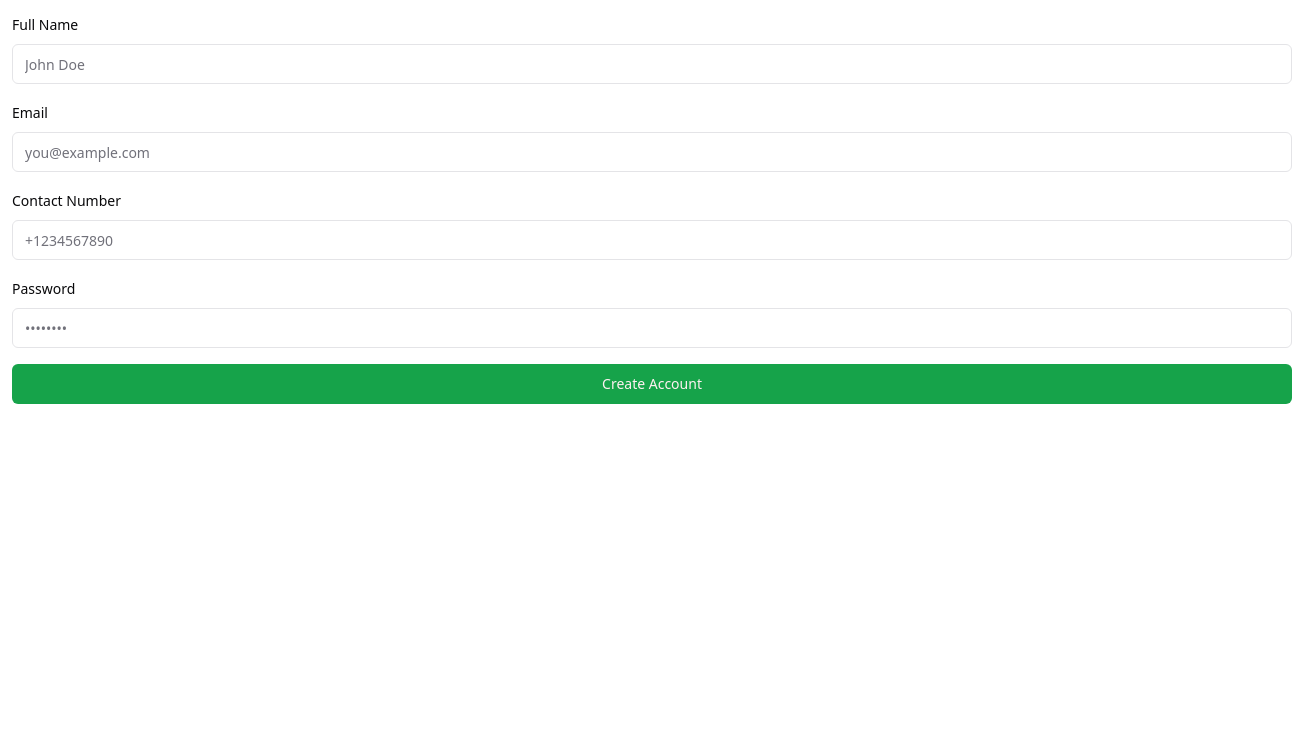
Scenario: RegisterForm › should validate contact number format
The width and height of the screenshot is (1304, 732).
Type "invalid" into the field with placeholder "+1234567890".
click(652, 240); type("invalid")  # box [12,220,1292,260]
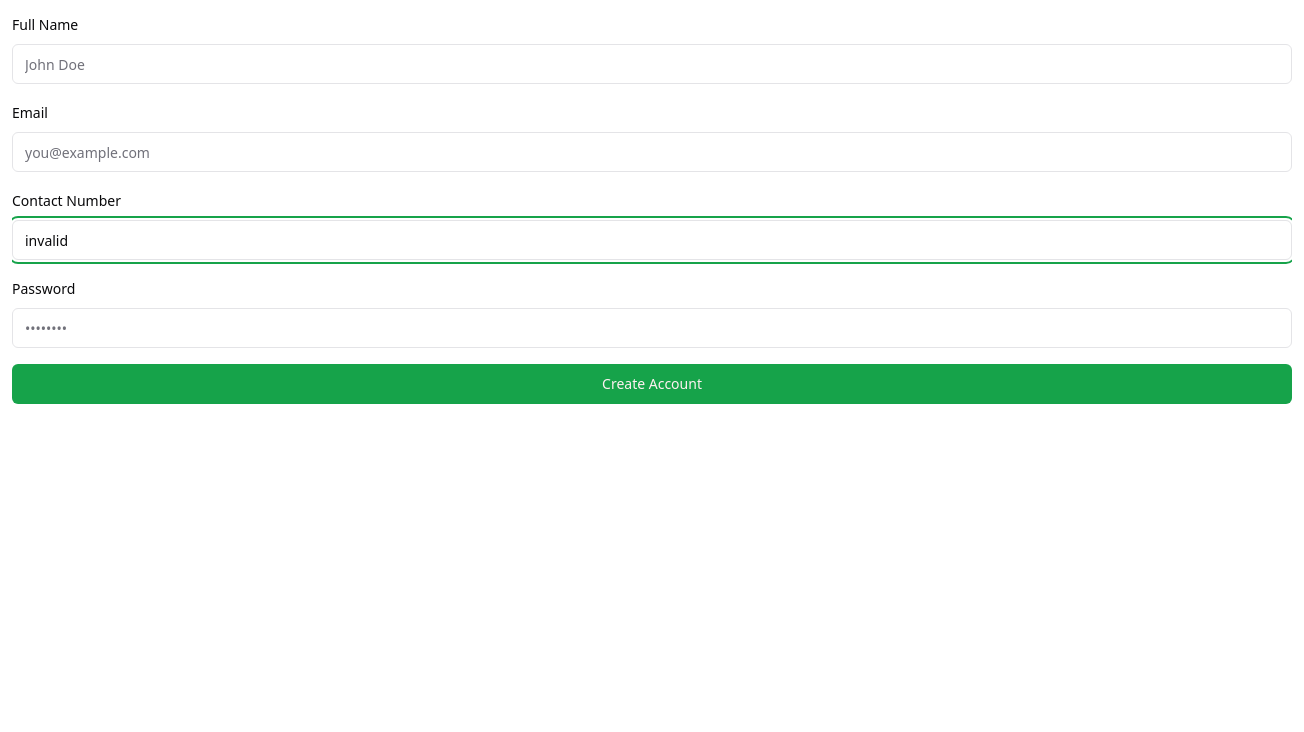
Click the button "Create Account".
click(652, 384)  # box [12,364,1292,404]
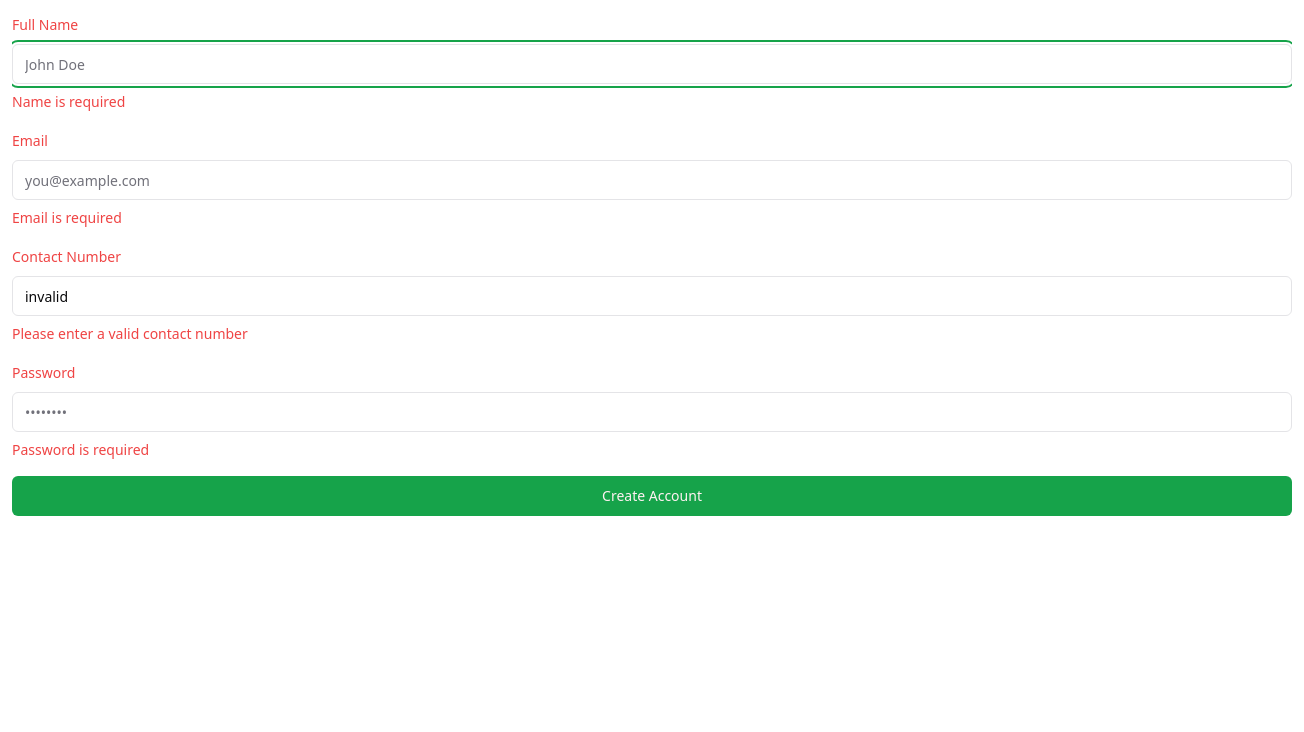
Expected: the text "Please enter a valid contact number" is shown, [12,324,248,343]
